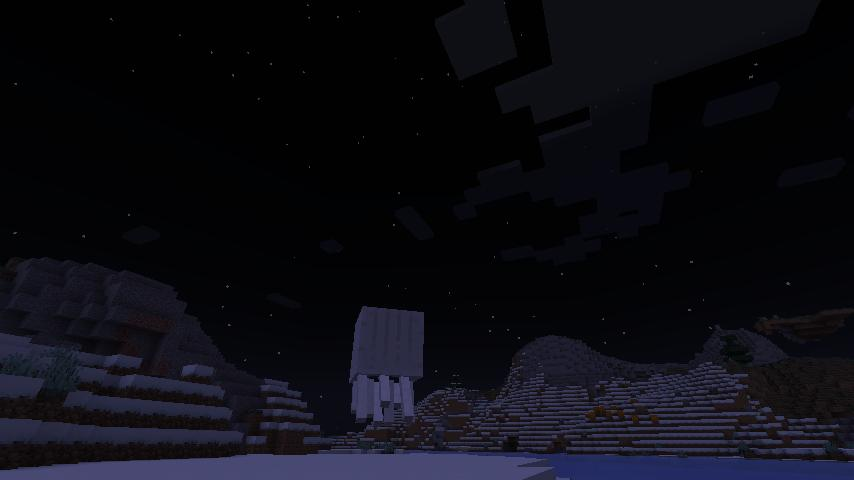ghast: (346, 302, 428, 429)
